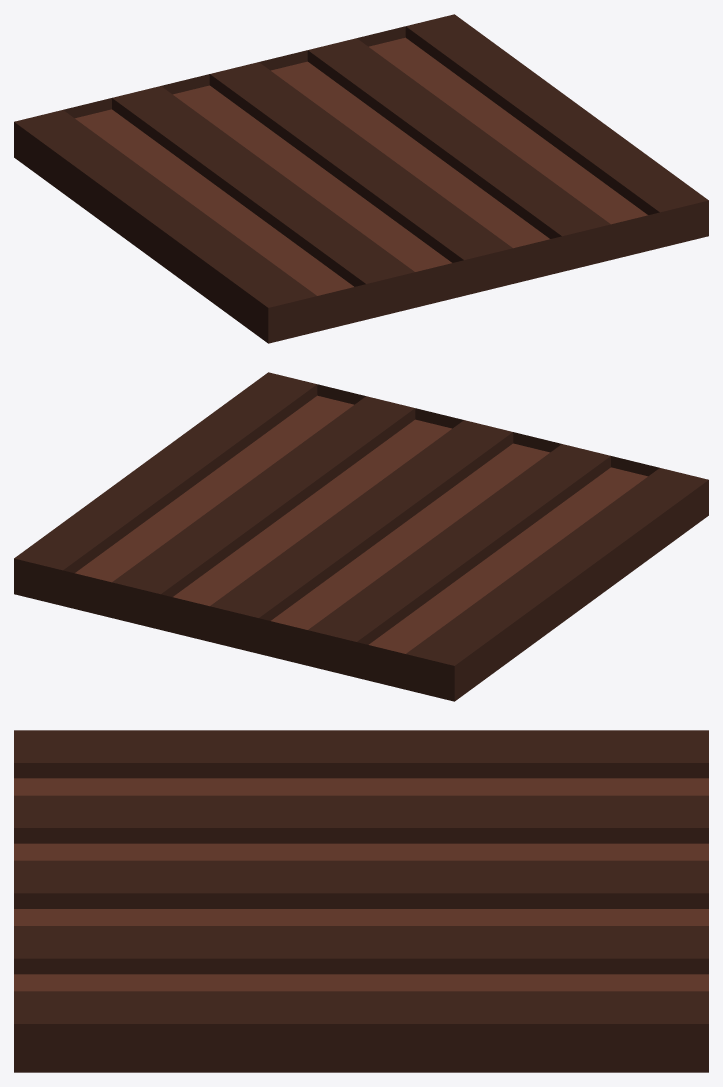
File: Farm_Soil.fbx
3 renders of one model, top to bottom at view 1: azimuth 30°, elevation 25°; view 2: azimuth 150°, elevation 25°; view 3: azimuth 270°, elevation 25°, orthographic. The views are drawn at different scales.
Parts seen in each view (by area): view 1: Farmeable; view 2: Farmeable; view 3: Farmeable.
Part boxes in pixels (<box>): Farmeable: <box>14,14,708,343</box>; Farmeable: <box>14,372,708,701</box>; Farmeable: <box>14,730,708,1072</box>.
Size of the model in its own units: 200 by 15.5 by 200.
